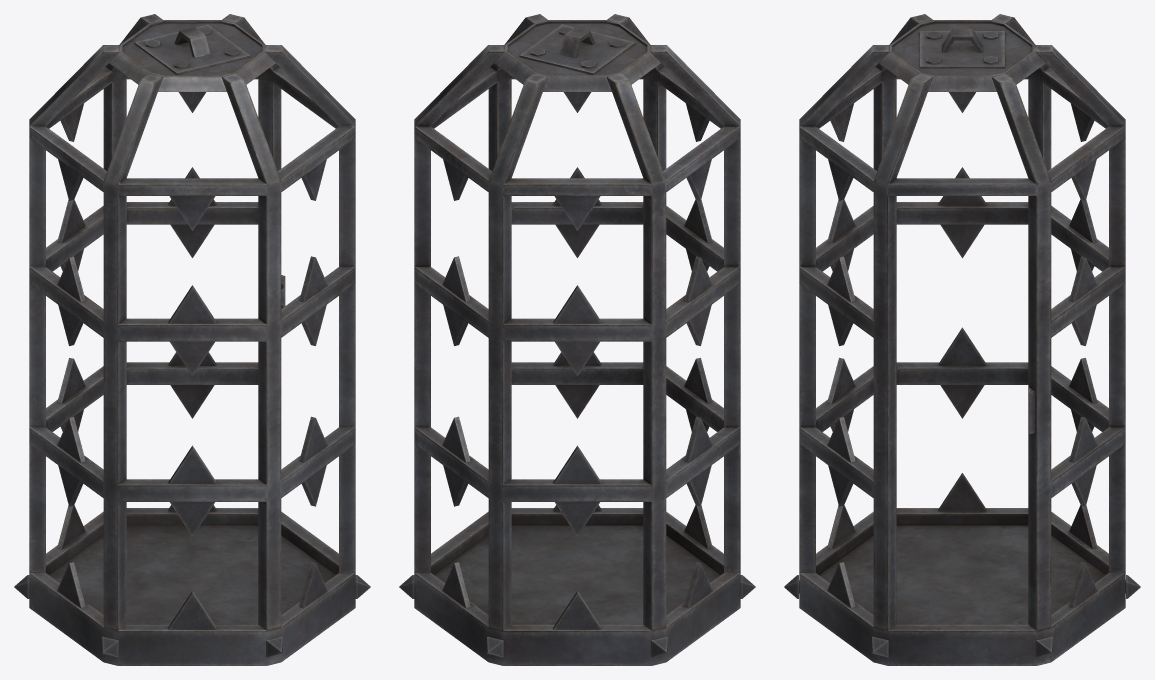
The model's file is Cell_1.fbx.
3 views of the same model, side by side, from view 1: azimuth 30°, elevation 25°; view 2: azimuth 150°, elevation 25°; view 3: azimuth 270°, elevation 25° (orthographic).
Visible parts, largest first — view 1: Cell_1; view 2: Cell_1; view 3: Cell_1.
Boxes of the visible parts, left/top/right/bottom form: Cell_1: left=14, top=14, right=370, bottom=665; Cell_1: left=399, top=14, right=755, bottom=665; Cell_1: left=784, top=14, right=1140, bottom=665.
Bounding box in the file's own units: 75.25 × 154 × 86.85.
